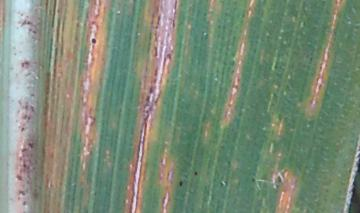tarspot: (91, 36, 98, 45), (178, 179, 184, 187), (194, 168, 198, 178), (273, 64, 279, 70), (251, 176, 256, 183)
